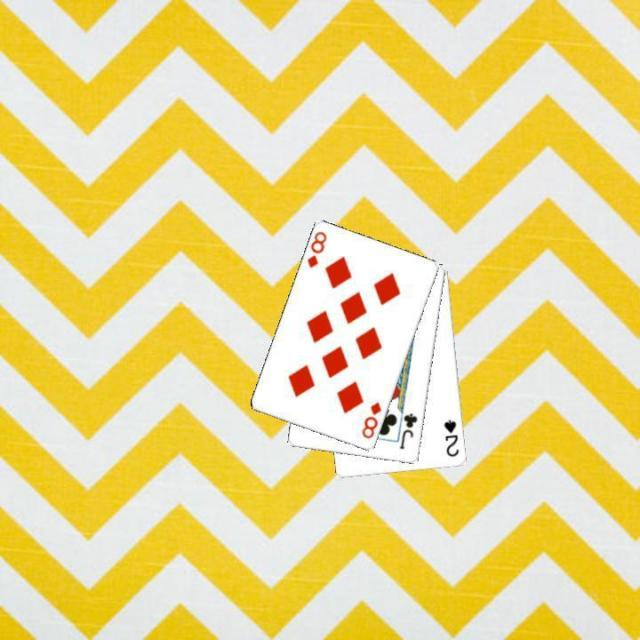2S: (441, 416, 462, 459)
8D: (357, 398, 383, 441), (303, 228, 329, 270)
JC: (396, 409, 420, 452)
